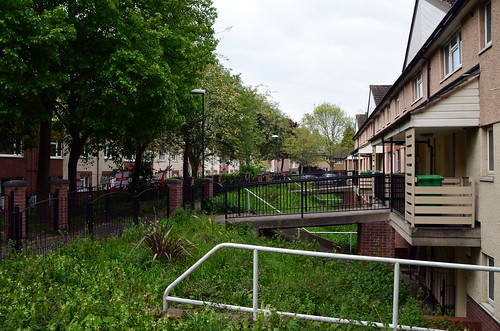building: (356, 1, 500, 331)
sky: (220, 1, 401, 106)
vegetation: (2, 2, 338, 161)
